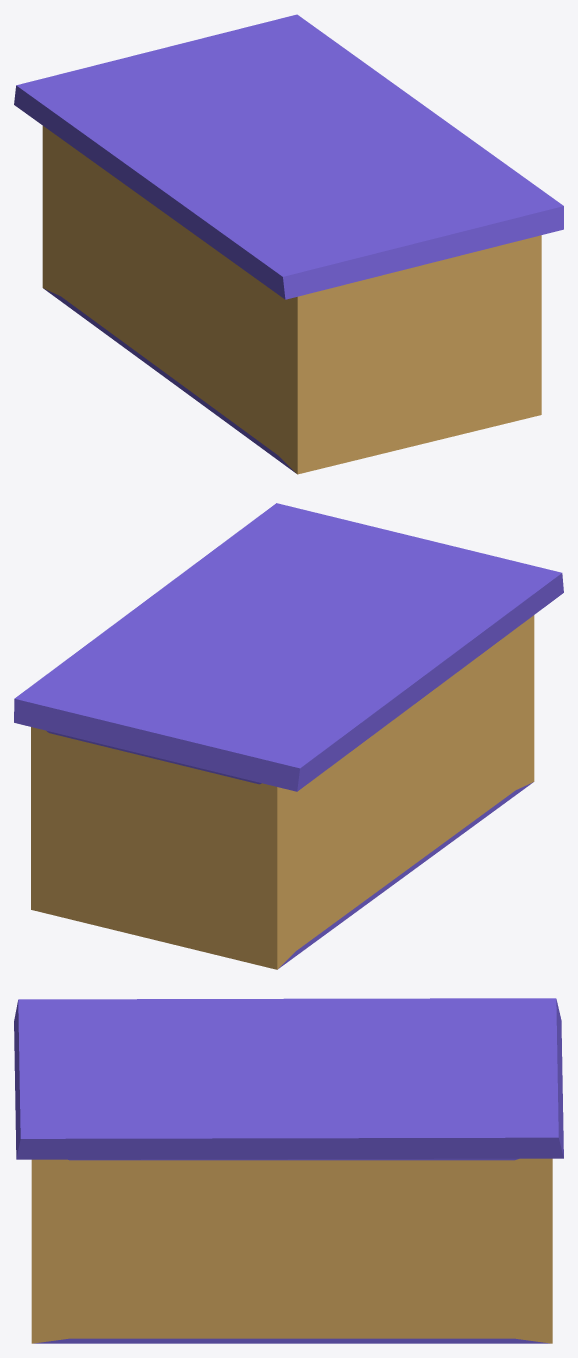
Rendered from truhe.glb.
The picture shows the model from 3 angles, top to bottom: view 1: azimuth 30°, elevation 25°; view 2: azimuth 150°, elevation 25°; view 3: azimuth 270°, elevation 25°; orthographic projection. The views are drawn at different scales.
Parts seen in each view (by area): view 1: truhe, deckel; view 2: truhe, deckel; view 3: truhe, deckel.
Part boxes in pixels (<box>): truhe: <box>42,126,541,474</box>; deckel: <box>14,14,563,299</box>; truhe: <box>31,615,534,969</box>; deckel: <box>14,503,563,791</box>; truhe: <box>31,1158,552,1343</box>; deckel: <box>14,998,563,1159</box>.
Size of the model in its own units: 2.34 by 1.68 by 3.82.
